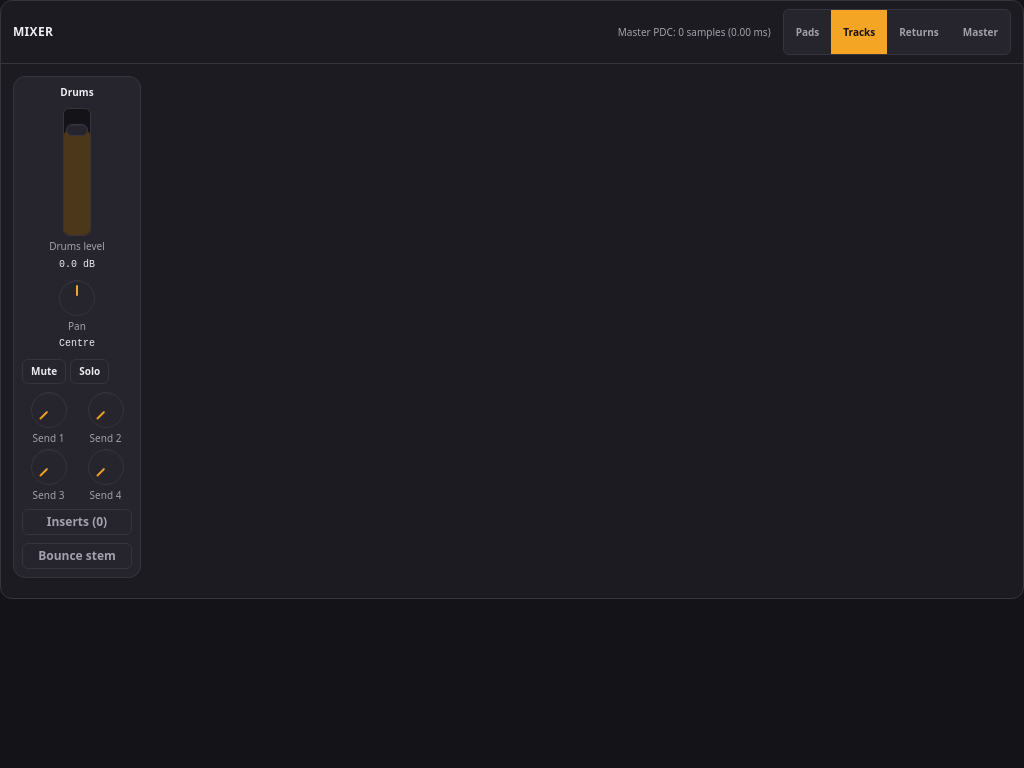
Test case: bounce stem (spec §9.5, issue #104) › offers no stem on a strip that is not a track
The image size is (1024, 768).
Click the radio button labelled "Master" at (980, 32), box x1=951 y1=10 x2=1010 y2=54
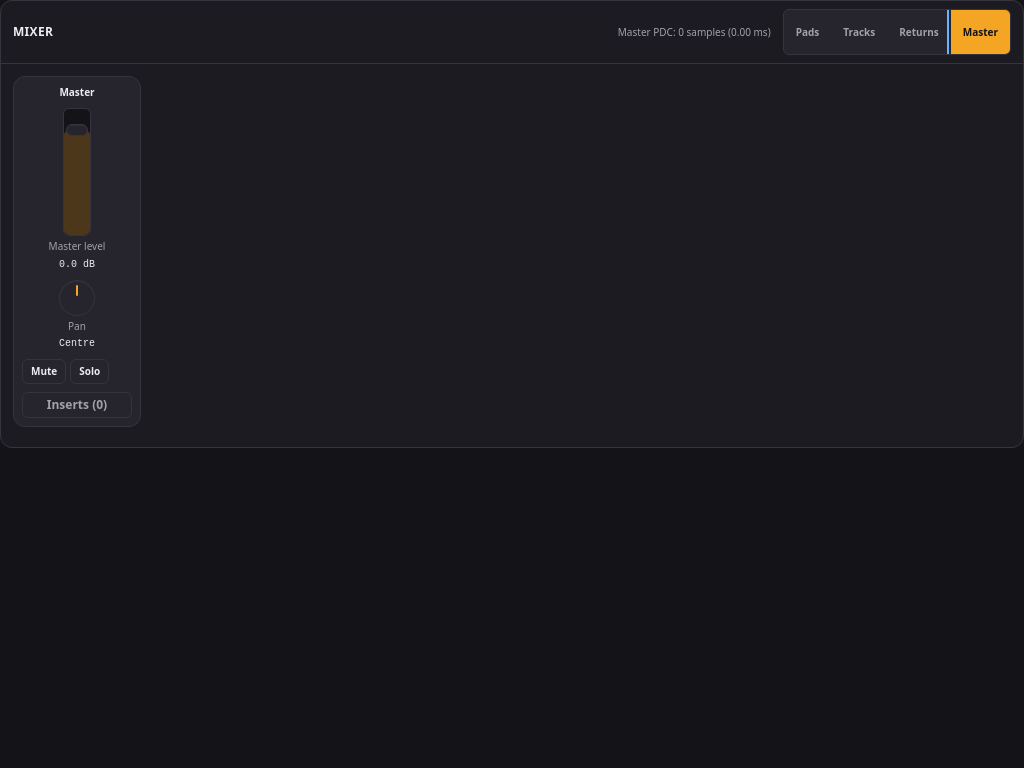
expect the element with test id "mixer-strip-master" is shown: met, box x1=13 y1=76 x2=141 y2=427
